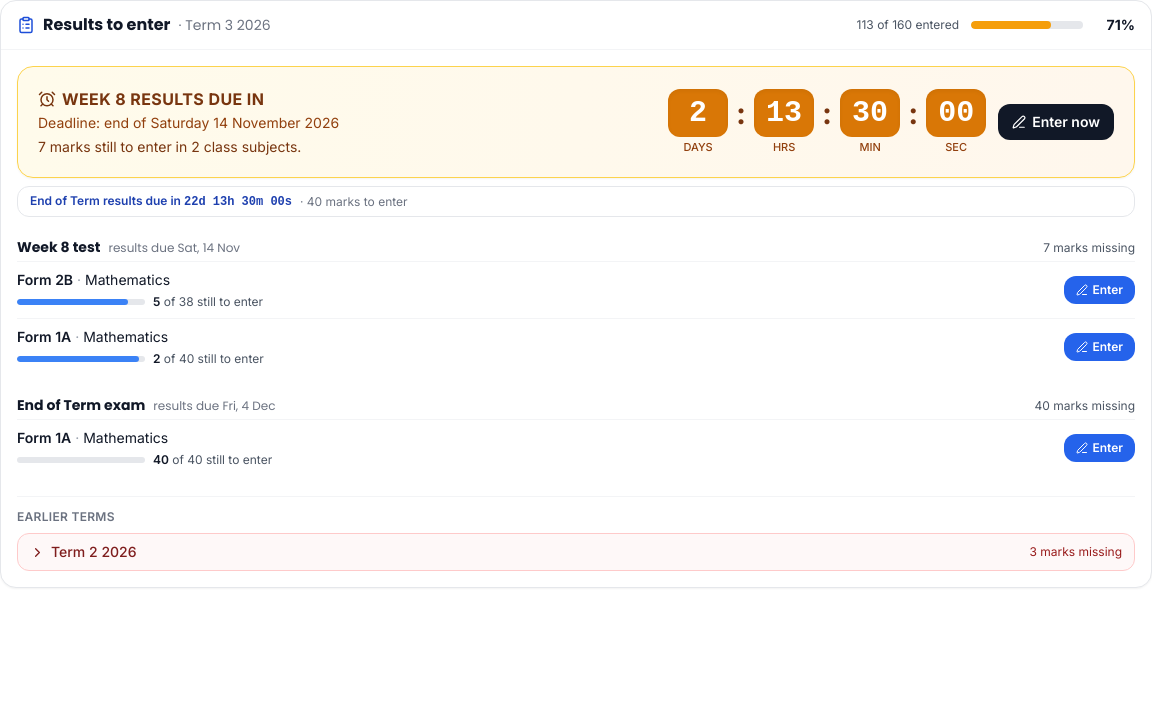
Test: TeacherResultsWarning › earlier terms with gaps are one collapsed line each
Expected: the text "· Term 3 2026" is shown, [178,15,271,35]
Expected: the text "3 marks missing" is shown, [1030,544,1122,560]
Click the button "Term 2 2026 3 marks missing": (94,552) [18,534,1134,570]
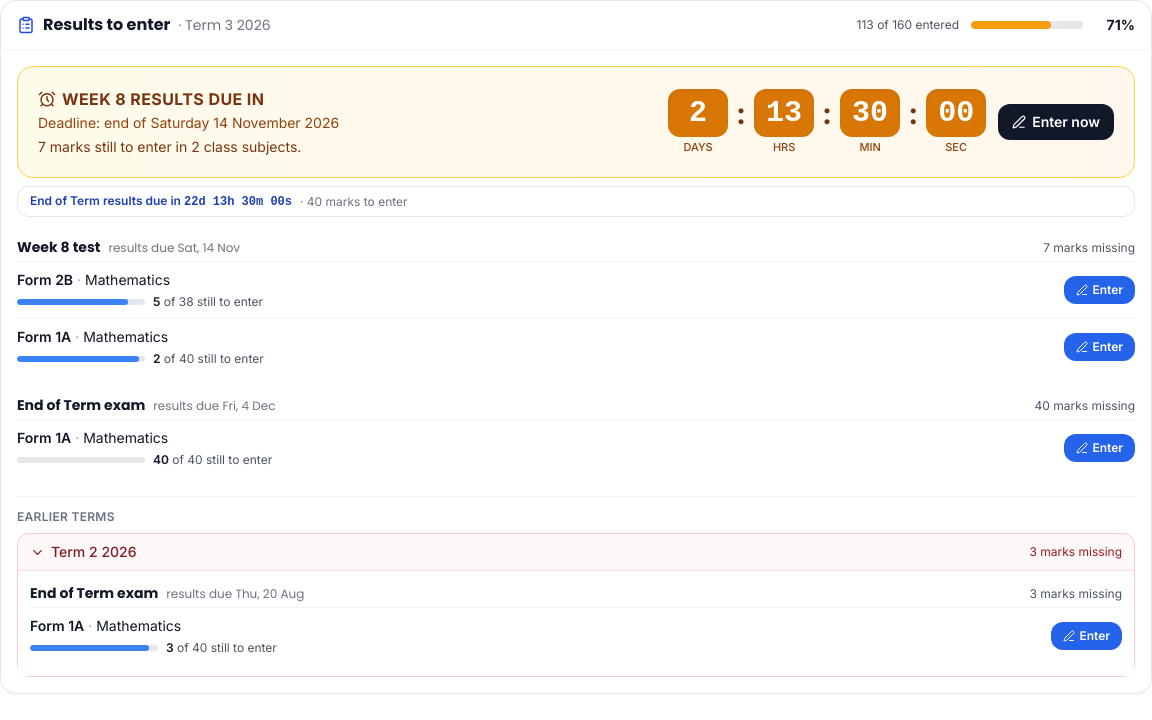
Now the button with aria-label "Enter End of Term marks for Form 1A Mathematics" is shown, box [1051,622,1122,650]
